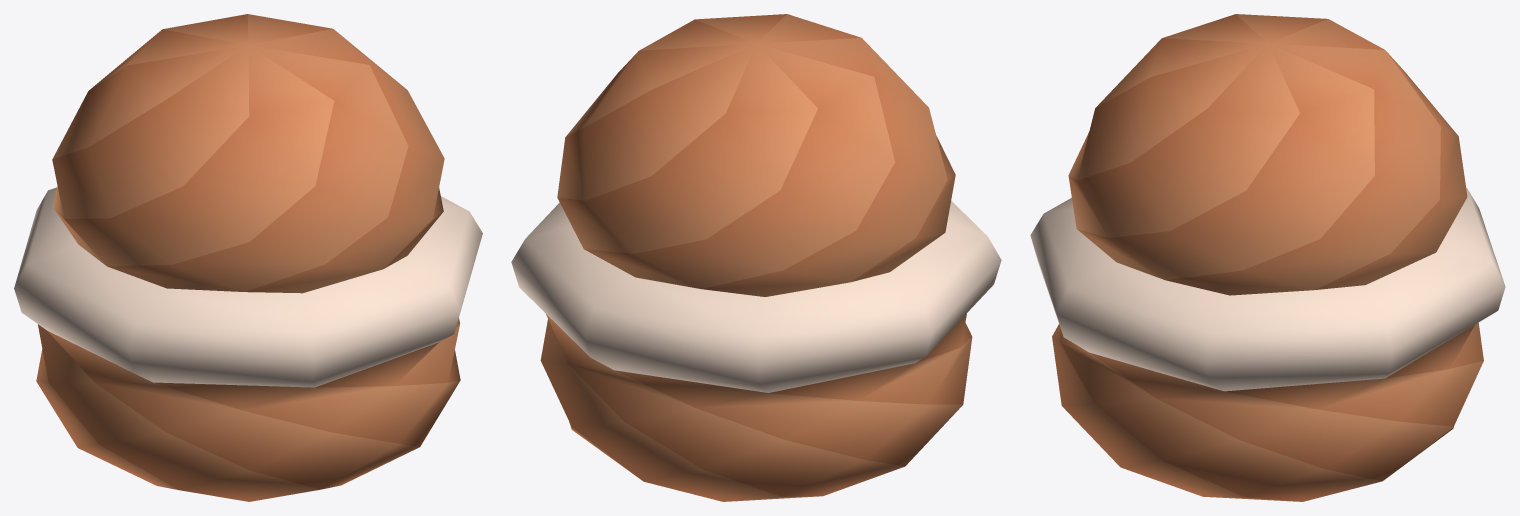
Rendered from cream-puff.glb.
3 renders of one model, left to right at view 1: azimuth 30°, elevation 25°; view 2: azimuth 150°, elevation 25°; view 3: azimuth 270°, elevation 25°, orthographic.
Visible parts, largest first — view 1: cream_puff; view 2: cream_puff; view 3: cream_puff.
Part boxes in pixels (x1,y1,x2,y2): cream_puff: (14, 14, 482, 501); cream_puff: (511, 14, 1001, 501); cream_puff: (1030, 14, 1505, 501).
Size of the model in its own units: 0.3042 by 0.2949 by 0.3042.
1 material, 1 textured.
